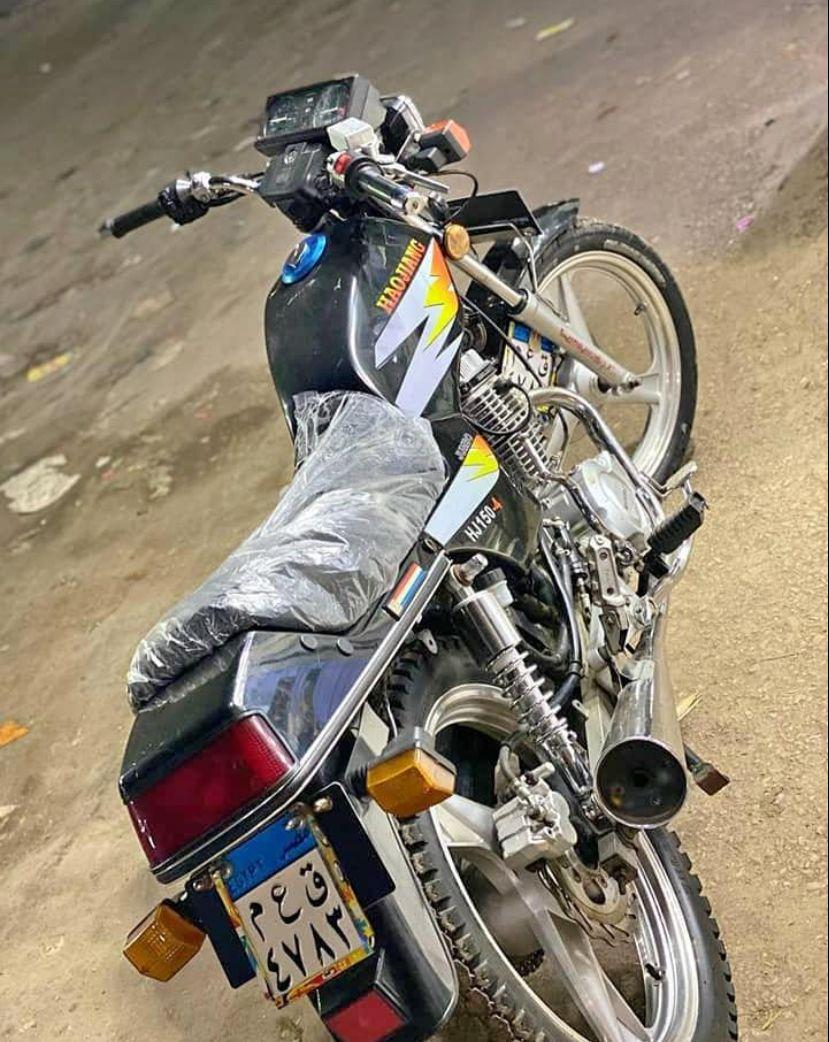License Plate: (215, 810, 369, 1000)
